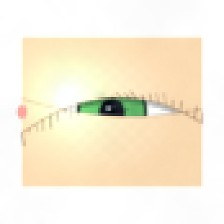hemorrhage_spot: (67, 76, 130, 127)
